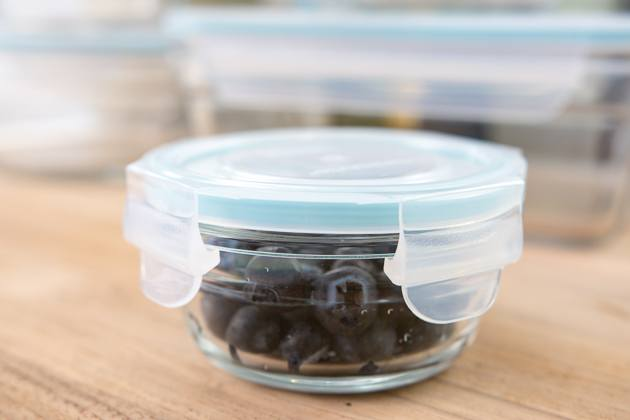PlasticBox: (119, 122, 530, 396)
